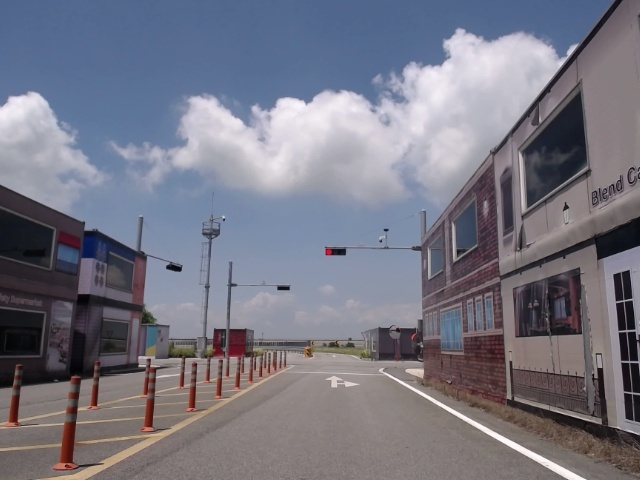red_3: (325, 247, 347, 254)
